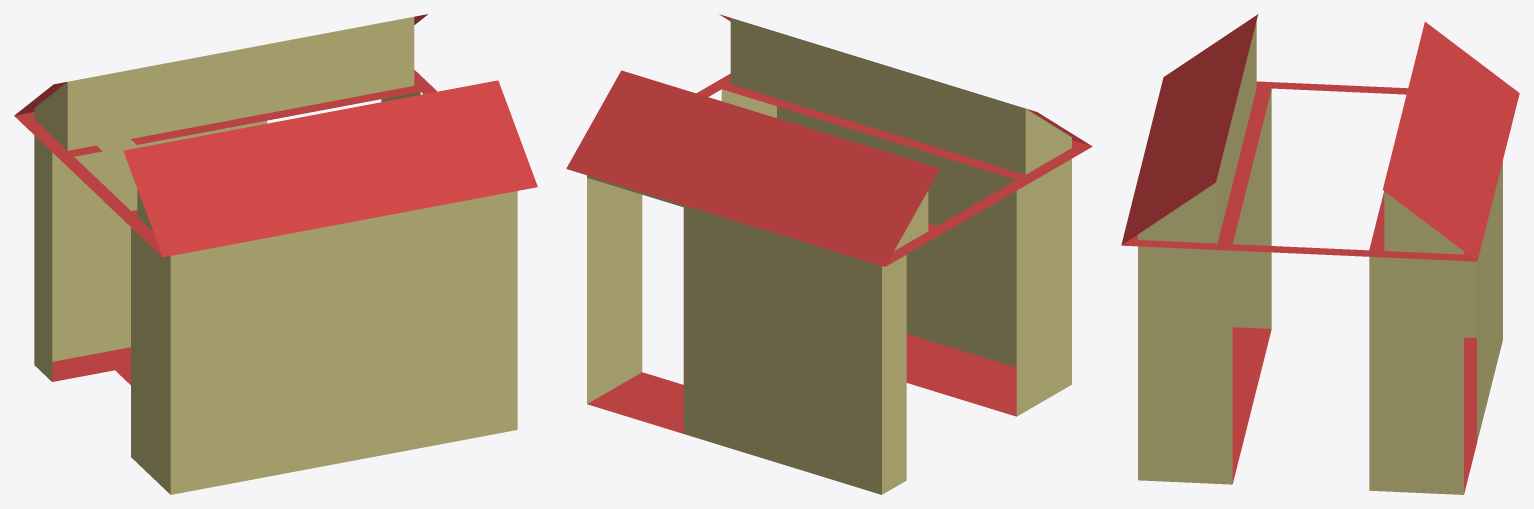
The picture shows the model from 3 angles, left to right: view 1: azimuth 30°, elevation 25°; view 2: azimuth 150°, elevation 25°; view 3: azimuth 270°, elevation 25°; orthographic projection. The views are drawn at different scales.
Size of the model in its own units: 14.4 by 13.16 by 11.21.
